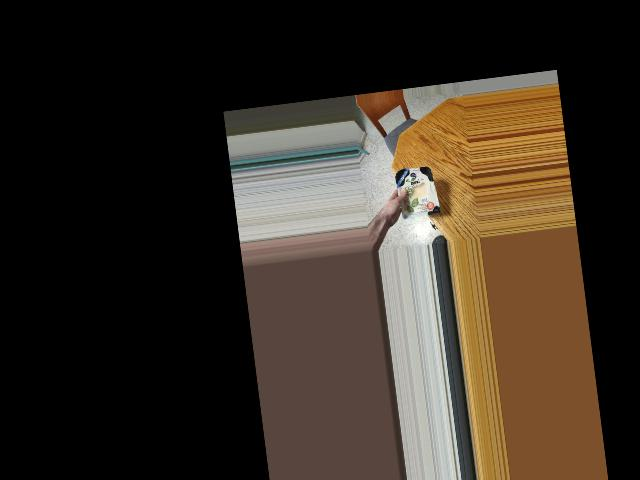cheese: (395, 157, 441, 227)
